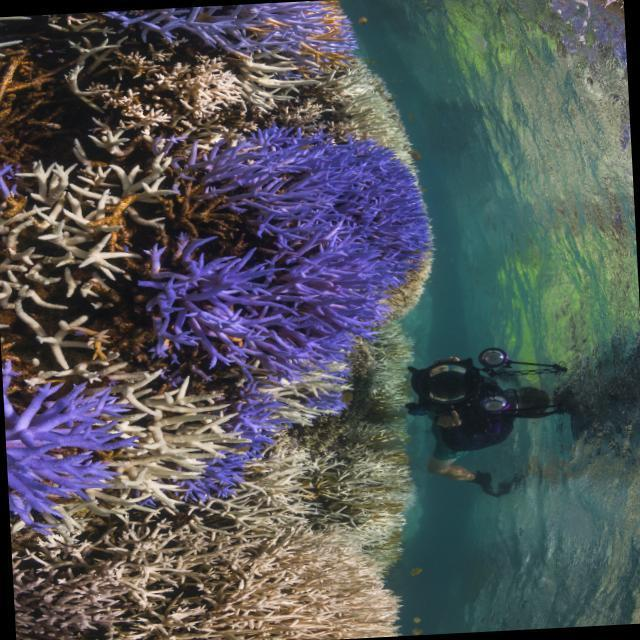Bleached Coral: (5, 156, 143, 318), (92, 385, 231, 510), (199, 53, 316, 116)
